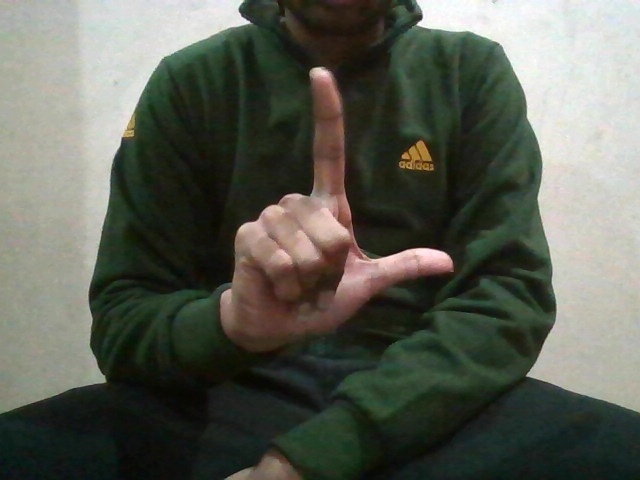L: (219, 57, 457, 347)
